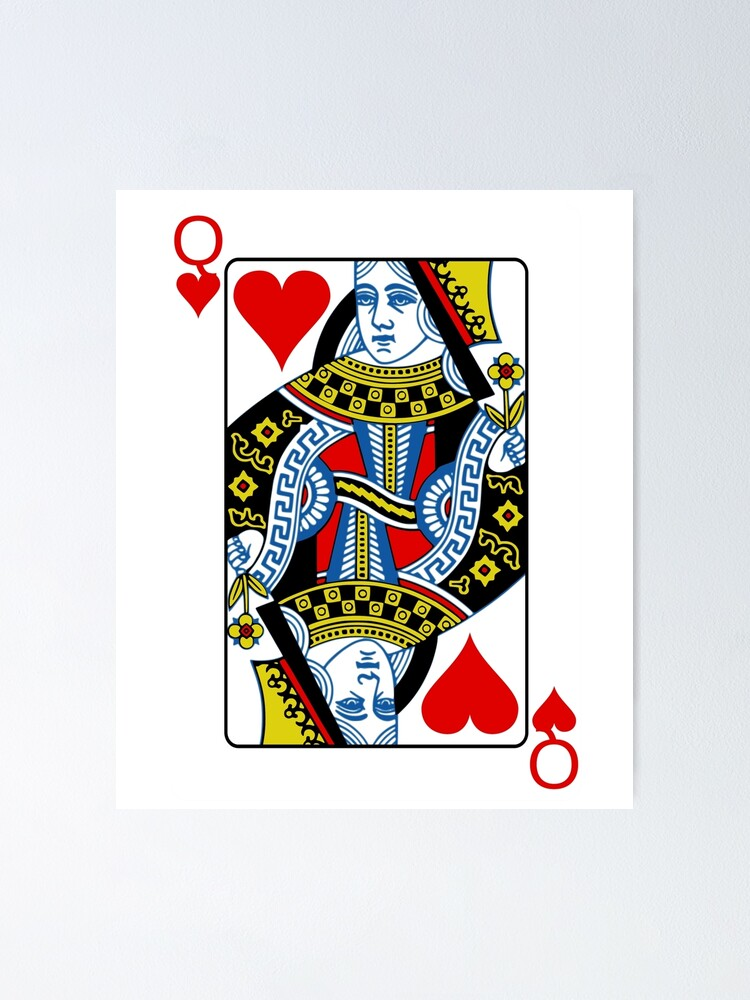queen of hearts: (143, 200, 600, 806)
